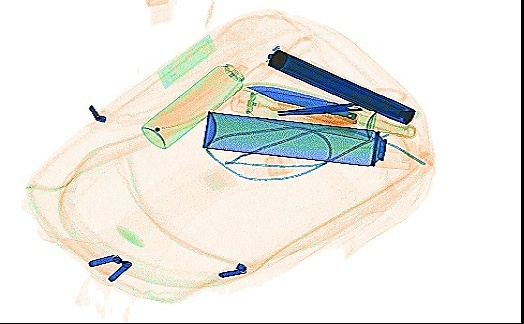knife: (236, 76, 416, 139)
pressure: (199, 108, 411, 170), (137, 60, 247, 150), (227, 85, 376, 140)
scissors: (274, 85, 406, 117)
